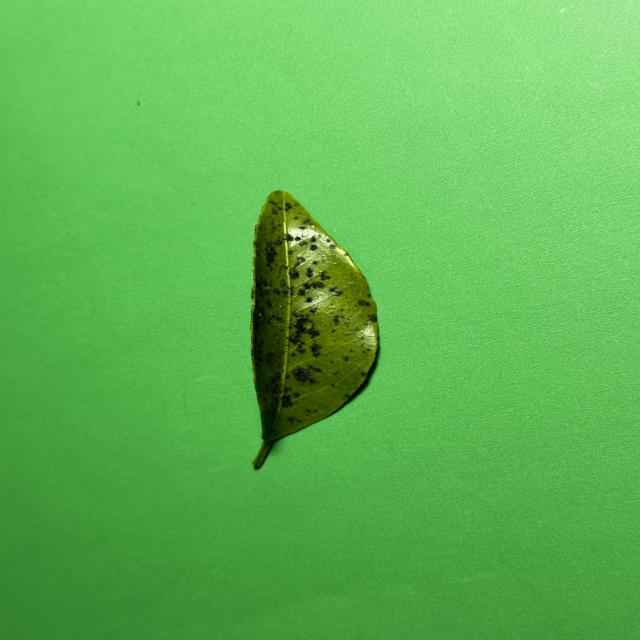sooty_mold: (251, 191, 378, 468)
